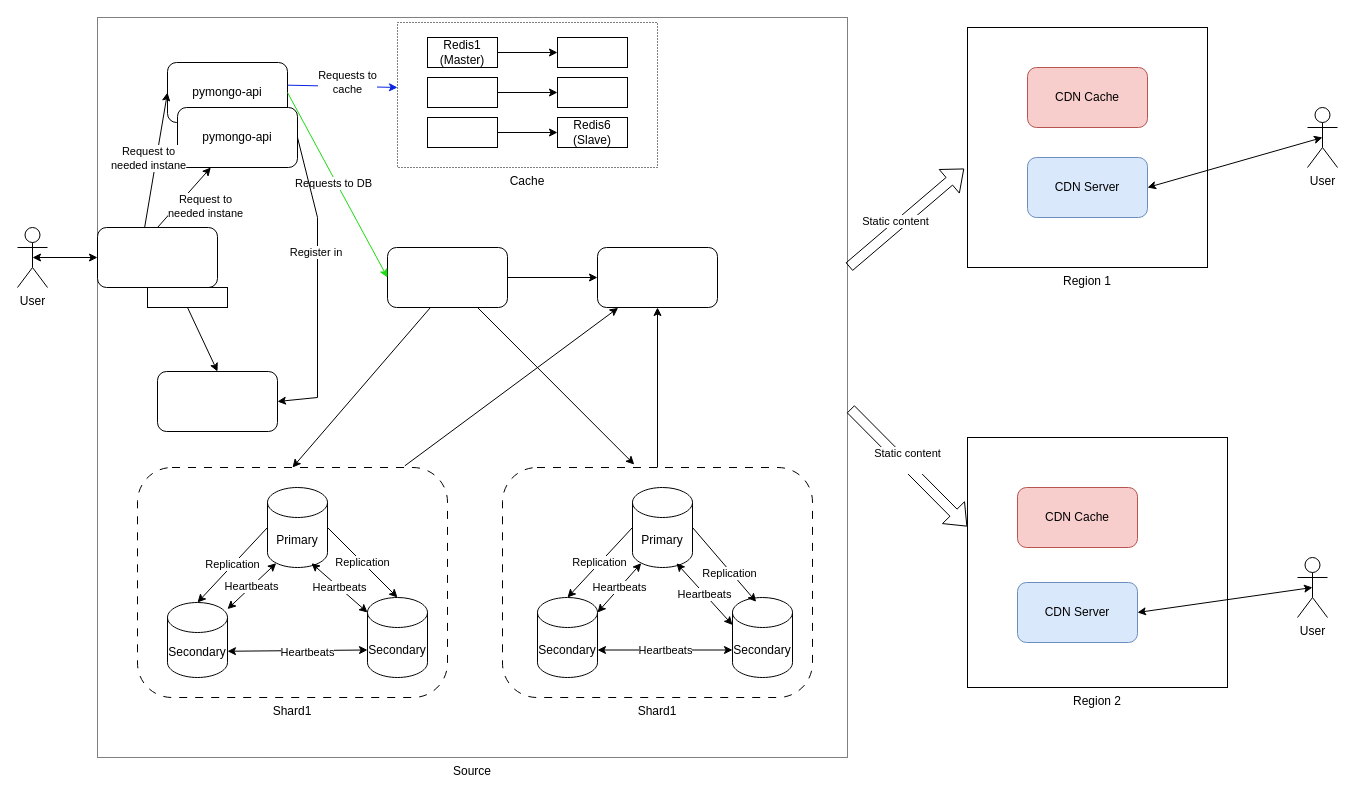
Some shapes in this 1355 by 796 pixel diagram are drawn without their labels. Each missing label, with the box of its shape:
API Gateway: (96, 226, 218, 288)
Configutation Server: (596, 246, 718, 308)
Consul (registry): (156, 370, 278, 432)
consul_kv: (146, 286, 228, 308)
Mongos Router: (386, 246, 508, 308)
Redis2 (Master): (426, 76, 498, 108)
Redis3 (Master): (426, 116, 498, 148)
Redis4 (Slave): (556, 36, 628, 68)
Redis5 (Slave): (556, 76, 628, 108)
